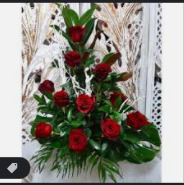RedRose: (66, 129, 90, 155), (30, 117, 54, 141), (125, 108, 148, 133), (97, 116, 119, 141), (57, 48, 83, 68), (75, 91, 97, 114), (63, 24, 85, 46), (93, 56, 113, 78), (36, 75, 56, 95), (54, 87, 72, 108)
